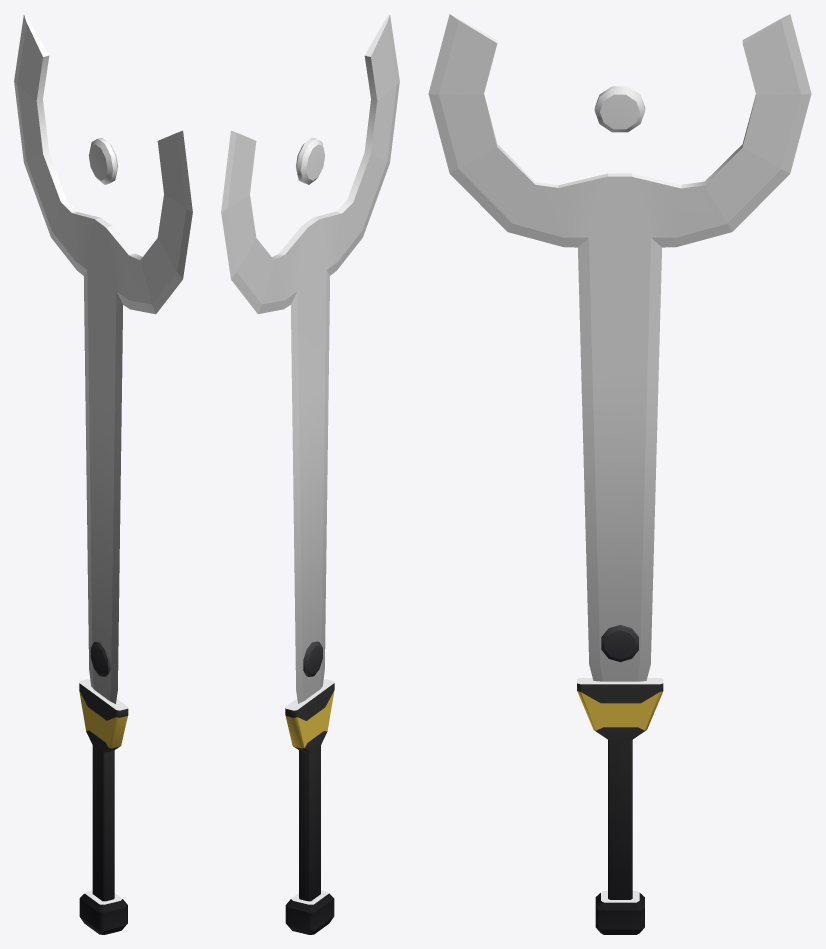
File: Weapon_african_fantasy_sword.fbx
The picture shows the model from 3 angles, left to right: view 1: azimuth 30°, elevation 25°; view 2: azimuth 150°, elevation 25°; view 3: azimuth 270°, elevation 25°; orthographic projection. The views are drawn at different scales.
Visible parts, largest first — view 1: W_DG_2; view 2: W_DG_2; view 3: W_DG_2.
Part boxes in pixels (<box>): W_DG_2: <box>14,14,192,934</box>; W_DG_2: <box>221,14,399,934</box>; W_DG_2: <box>428,14,811,934</box>.
Bounding box in the file's own units: 4.01 × 112 × 42.38.
